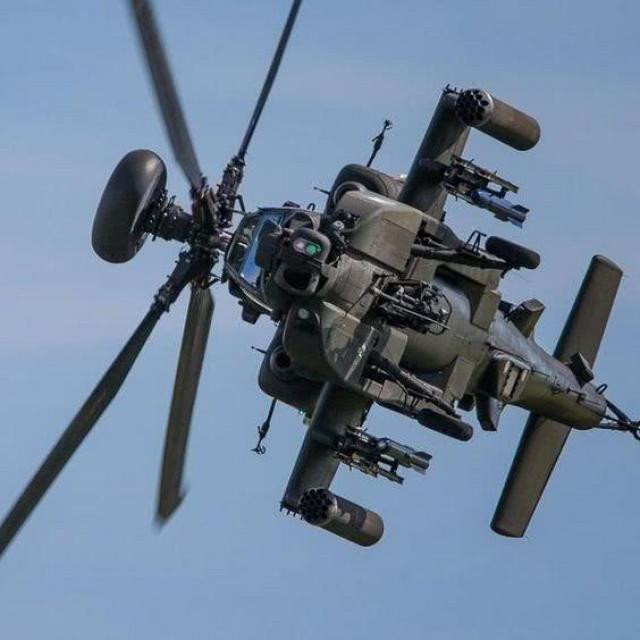MIL_HELO: (3, 0, 640, 589)
